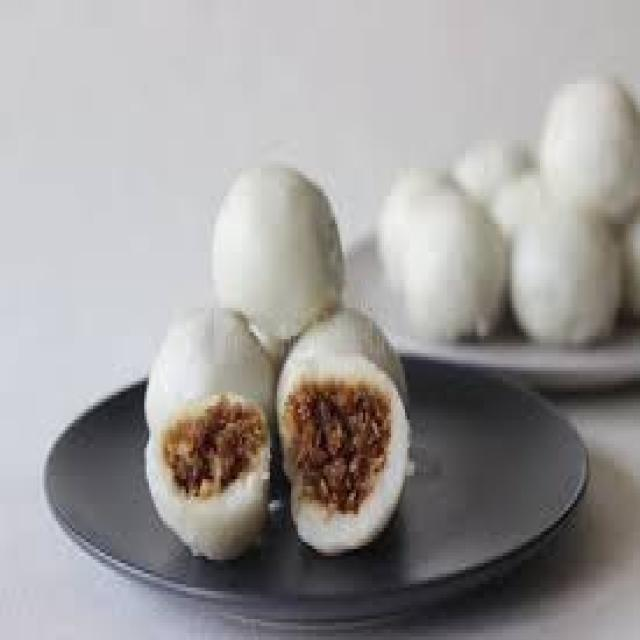poorna kolukattai: (133, 145, 411, 567), (412, 66, 640, 335)
